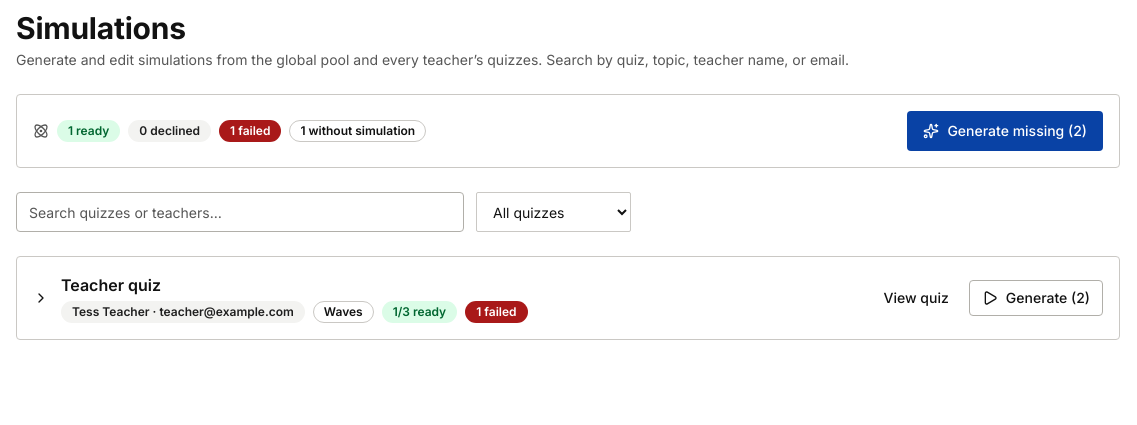
Test: shows a network error and re-enables generation for a retry
The width and height of the screenshot is (1137, 425).
What coordinates should you click on to do the following:
click the button "Generate missing (2)"
I would click on:
 (1005, 131)
Its box is [907,111,1103,151].
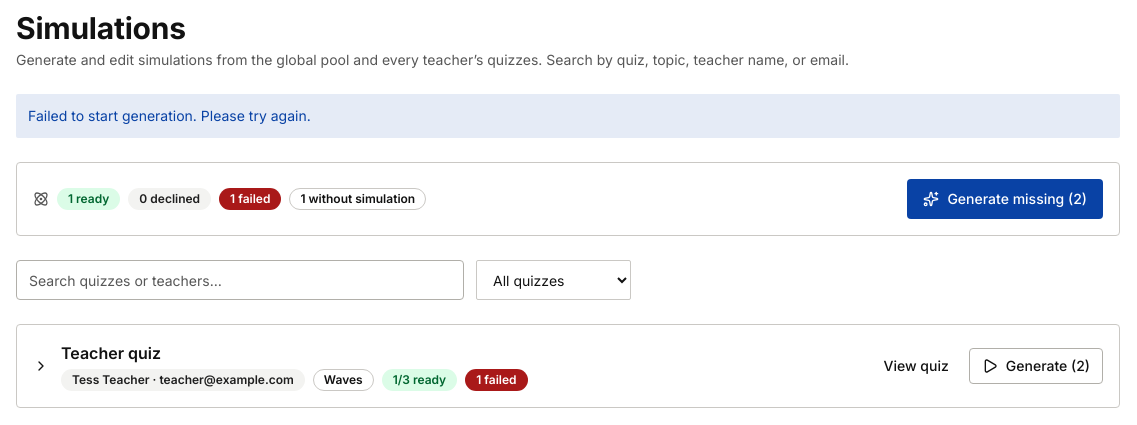
Check: the button "Generate missing (2)" is enabled, box [907,179,1103,219]
Check: the text "Failed to start generation. Please try again." is shown, box [16,94,1120,138]
